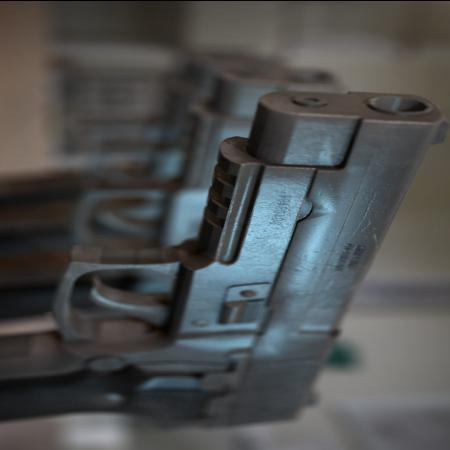Pistol: (3, 85, 443, 424)
